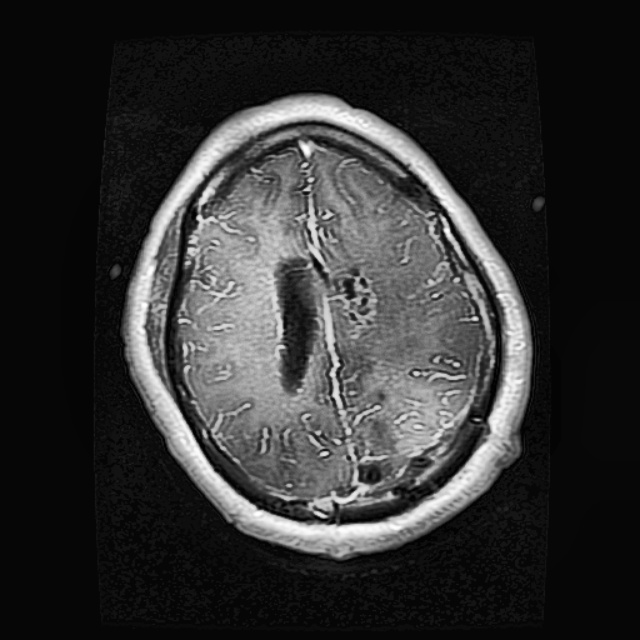Glioma: (334, 262, 375, 334)
